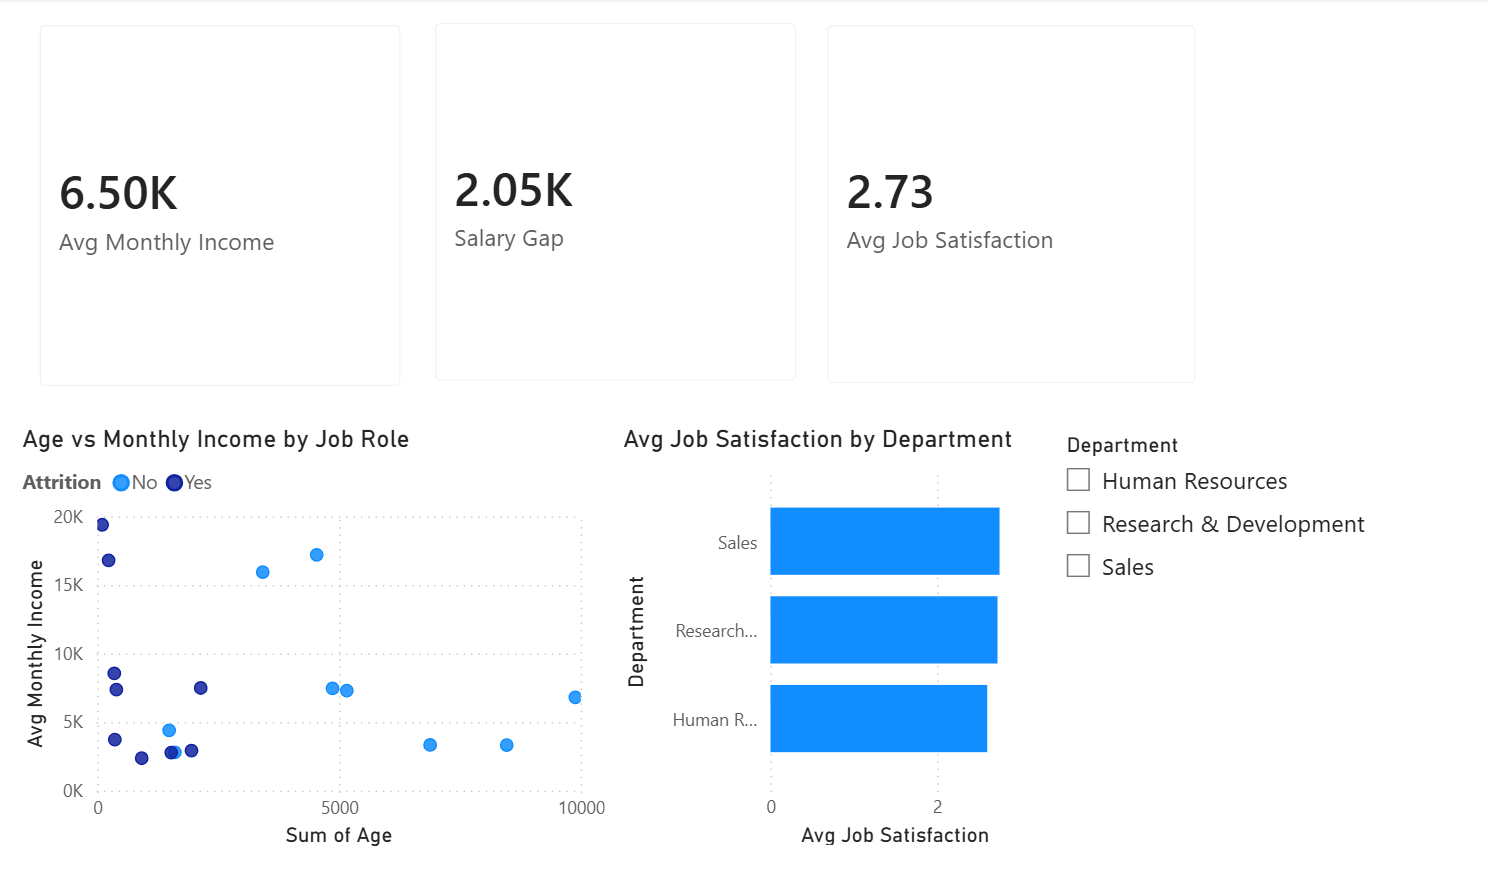

What the dashboard file says about the page in this screenshot:
{"tool":"powerbi","page":{"name":"Salary & Satisfaction","canvas":[1280,720],"ordinal":2},"visuals":[{"type":"cardVisual","fields":{"Data":["HR_Analytics.Salary Gap"]},"box":[280.2,0,280.2,278.9],"z":1},{"type":"cardVisual","fields":{"Data":["HR_Analytics.Avg Job Satisfaction"]},"box":[547.4,1.3,285.4,278.9],"z":2},{"type":"cardVisual","fields":{"Data":["HR_Analytics.Avg Monthly Income"]},"box":[10.8,1.5,280.2,280.2],"z":3},{"type":"scatterChart","title":"Age vs Monthly Income by Job Role","fields":{"X":["Sum(HR_Analytics.Age)"],"Y":["HR_Analytics.Avg Monthly Income"],"Category":["HR_Analytics.JobRole"],"Series":["HR_Analytics.Attrition"]},"box":[10.8,290.2,407.2,292.5],"z":4},{"type":"clusteredBarChart","fields":{"Category":["HR_Analytics.Department"],"Y":["HR_Analytics.Avg Job Satisfaction"]},"box":[420.3,290.6,284.1,291.9],"z":5},{"type":"slicer","fields":{"Values":["HR_Analytics.Department"]},"box":[714,291,284,292],"z":6}]}

Visuals, with their boxes on the page's 1280x720 design canvas (x1, y1, x2, y2). These are canvas units, not pixel positions in the 1488x879 screenshot, which may show the page scaled, cropped or inside an application window:
cardVisual - HR_Analytics.Salary Gap: {"left": 280, "top": 0, "right": 560, "bottom": 279}
cardVisual - HR_Analytics.Avg Job Satisfaction: {"left": 547, "top": 1, "right": 833, "bottom": 280}
cardVisual - HR_Analytics.Avg Monthly Income: {"left": 11, "top": 2, "right": 291, "bottom": 282}
"Age vs Monthly Income by Job Role" scatterChart: {"left": 11, "top": 290, "right": 418, "bottom": 583}
clusteredBarChart - HR_Analytics.Department x HR_Analytics.Avg Job Satisfaction: {"left": 420, "top": 291, "right": 704, "bottom": 582}
slicer - HR_Analytics.Department: {"left": 714, "top": 291, "right": 998, "bottom": 583}
